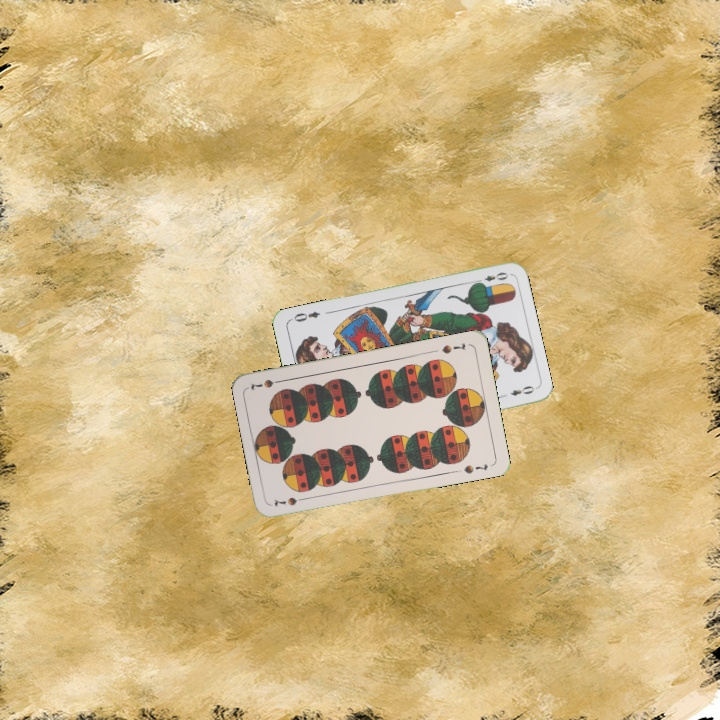EO: (471, 268, 511, 287)
S7: (270, 493, 309, 509), (438, 339, 468, 356)
